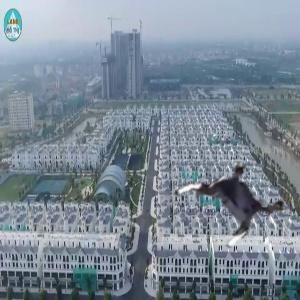drone: (183, 151, 285, 253)
